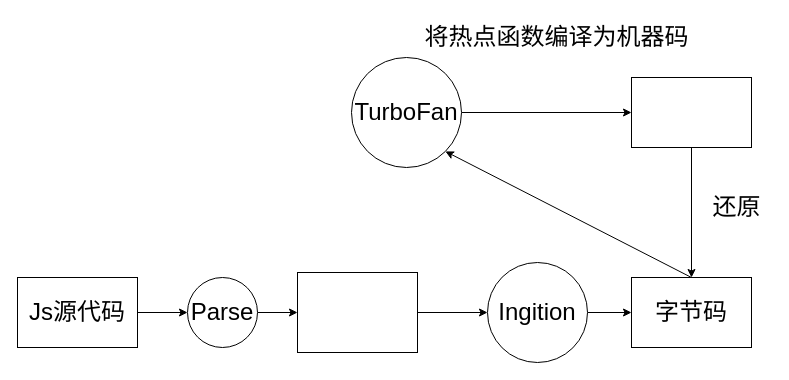
Image size: 789x380. Some labels were removed from this diagram. Each missing label, with the box of its shape:
AST 抽象语法树: (296, 272, 418, 352)
机器码: (630, 76, 752, 148)
